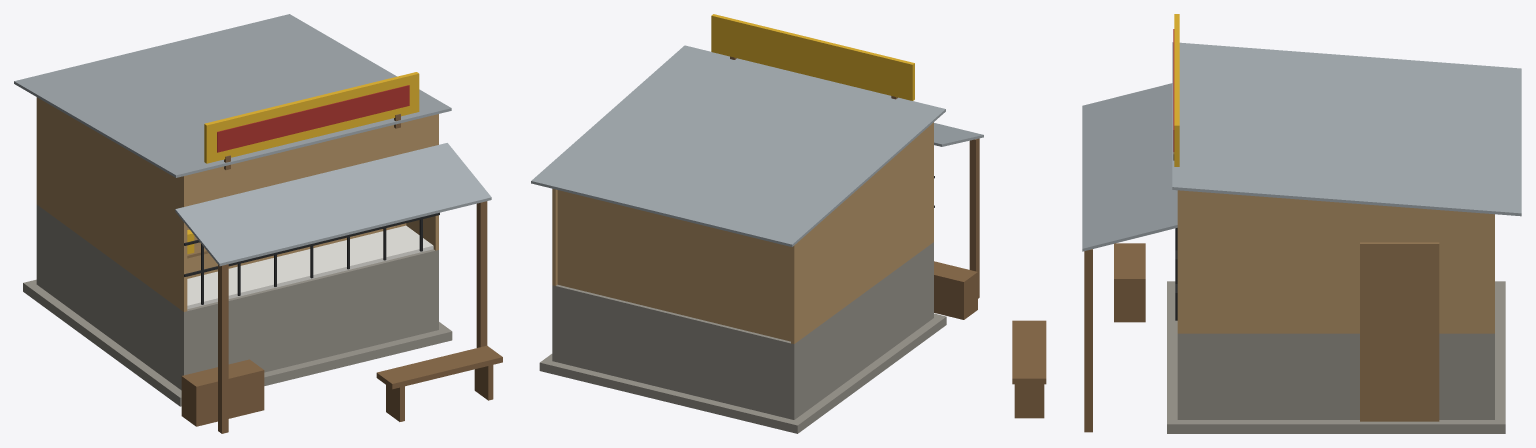
Rendered from BAY_I_SariSari_H.glb.
3 views of the same model, side by side, from view 1: azimuth 30°, elevation 25°; view 2: azimuth 150°, elevation 25°; view 3: azimuth 270°, elevation 25° (orthographic). The views are drawn at different scales.
Visible parts, largest first — view 1: BAY_I_SariSari_H; view 2: BAY_I_SariSari_H; view 3: BAY_I_SariSari_H.
Boxes of the visible parts, bbox=[...] form: BAY_I_SariSari_H: bbox=[14, 14, 502, 433]; BAY_I_SariSari_H: bbox=[531, 14, 983, 433]; BAY_I_SariSari_H: bbox=[1012, 14, 1521, 433].
Size of the model in its own units: 3.32 by 3.05 by 4.81.
Materials: 1 (1 with a texture image).
